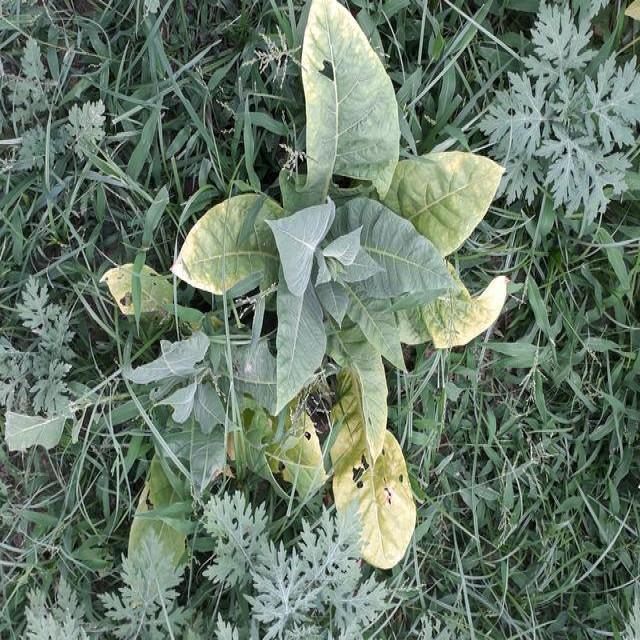crop: (179, 10, 514, 543), (90, 263, 400, 567)
